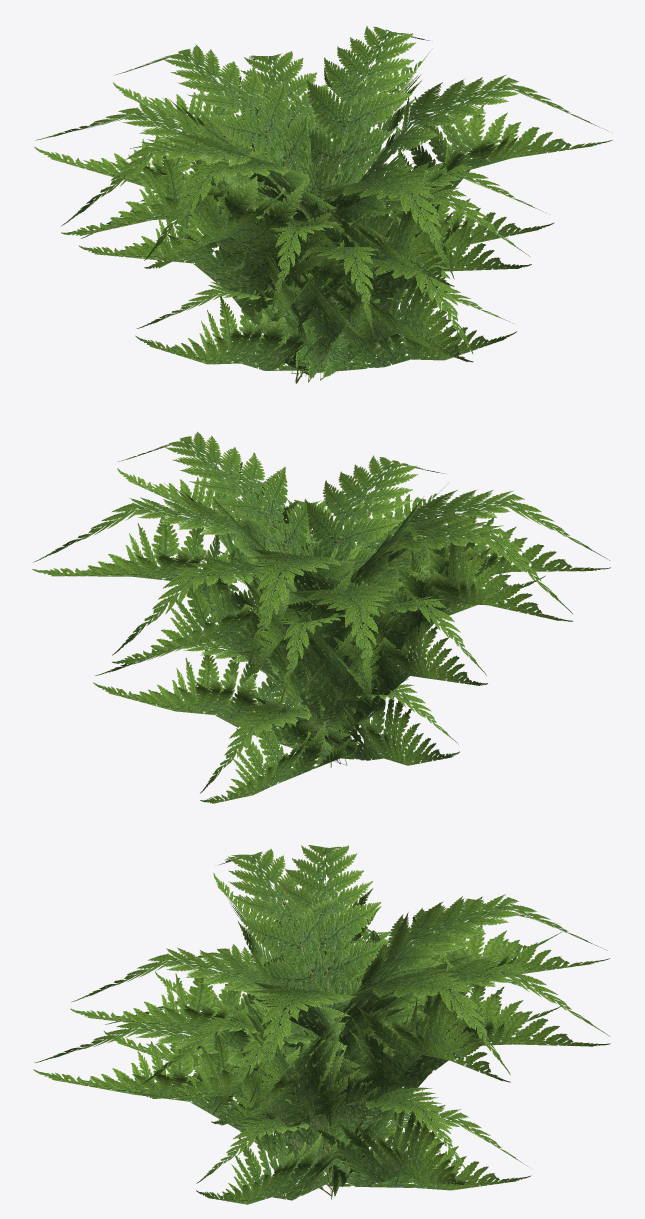
Rendered from Farn01.FBX.
The picture shows the model from 3 angles, top to bottom: view 1: azimuth 30°, elevation 25°; view 2: azimuth 150°, elevation 25°; view 3: azimuth 270°, elevation 25°; orthographic projection. The views are drawn at different scales.
Visible parts, largest first — view 1: Yucca02; view 2: Yucca02; view 3: Yucca02.
Boxes of the visible parts, x1,y1,x2,y2 form: Yucca02: [34, 26, 612, 383]; Yucca02: [32, 431, 610, 803]; Yucca02: [33, 845, 610, 1204].
Size of the model in its own units: 629 by 313 by 630.
